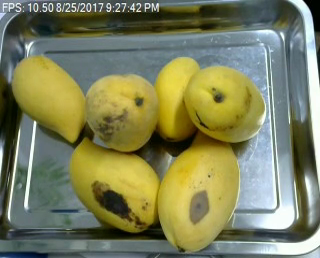Mango: (158, 128, 239, 249), (70, 136, 159, 231), (11, 53, 87, 142), (84, 75, 161, 154), (186, 66, 266, 142), (151, 55, 201, 139)
